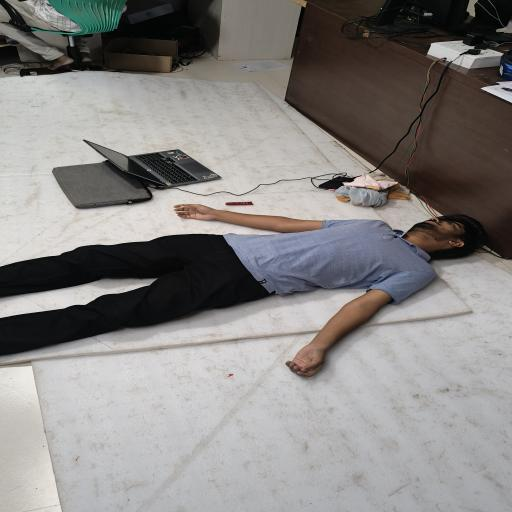survivor: (0, 203, 490, 378), (0, 0, 92, 70)
